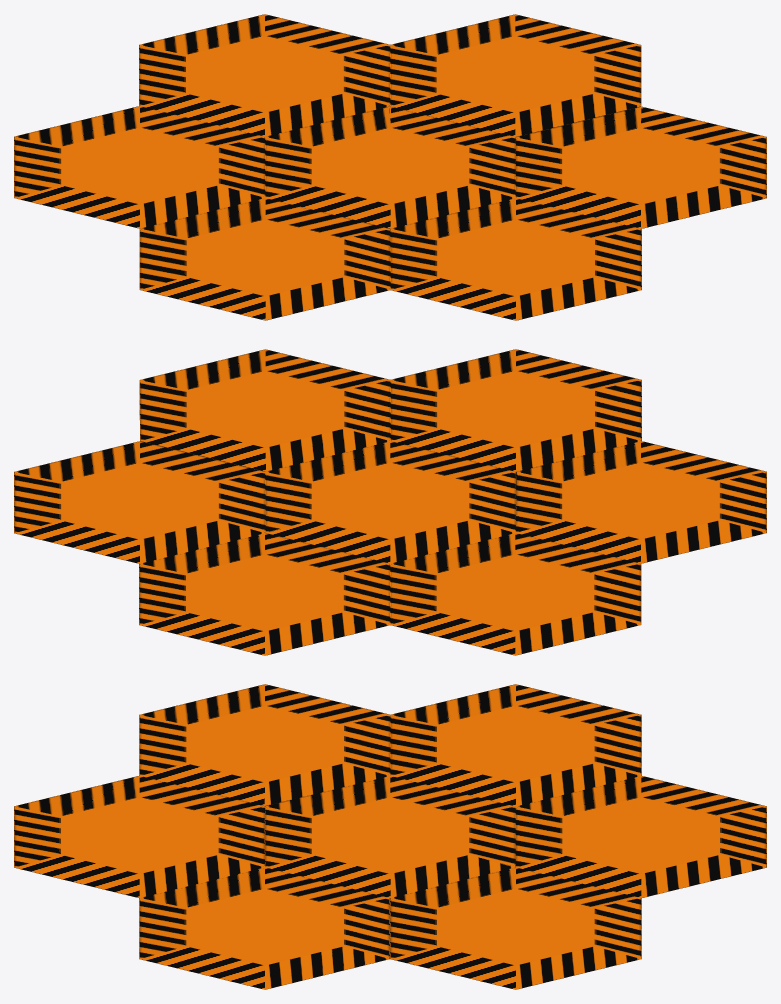
File: ConstructionZone.fbx
The picture shows the model from 3 angles, top to bottom: view 1: azimuth 30°, elevation 25°; view 2: azimuth 150°, elevation 25°; view 3: azimuth 270°, elevation 25°; orthographic projection.
Visible parts, largest first — view 1: Zone.Double, Zone.Sept.A, Zone.Quad.C, Zone.Tripple.A, Zone.Tripple.C, Zone.Tripple.B, Zone.Quad.D, Zone.Quad.A, Zone.Quad.B, Zone.Sext.A; view 2: Zone.Double, Zone.Sept.A, Zone.Tripple.A, Zone.Quad.C, Zone.Tripple.C, Zone.Tripple.B, Zone.Quad.D, Zone.Quad.B, Zone.Quad.A, Zone.Sext.A; view 3: Zone.Double, Zone.Sept.A, Zone.Quad.C, Zone.Tripple.A, Zone.Tripple.C, Zone.Tripple.B, Zone.Quad.D, Zone.Quad.A, Zone.Quad.B, Zone.Sext.A.
Boxes of the visible parts, x1,y1,x2,y2 form: Zone.Double: (265,14,641,228); Zone.Sept.A: (219,106,766,228); Zone.Quad.C: (391,198,641,320); Zone.Tripple.A: (139,14,439,136); Zone.Tripple.C: (139,219,390,320); Zone.Tripple.B: (14,106,218,228); Zone.Quad.D: (140,106,515,289); Zone.Quad.A: (265,14,390,104); Zone.Quad.B: (140,198,389,238); Zone.Sext.A: (142,147,265,227); Zone.Double: (14,441,516,563); Zone.Sept.A: (139,349,512,573); Zone.Tripple.A: (139,508,390,655); Zone.Quad.C: (390,349,641,456); Zone.Tripple.C: (517,441,766,563); Zone.Tripple.B: (390,554,641,655); Zone.Quad.D: (265,428,640,624); Zone.Quad.B: (515,472,640,563); Zone.Quad.A: (139,534,262,624); Zone.Sext.A: (437,533,638,573); Zone.Double: (265,776,641,989); Zone.Sept.A: (139,776,515,989); Zone.Quad.C: (14,775,264,898); Zone.Tripple.A: (465,775,766,879); Zone.Tripple.C: (139,684,389,805); Zone.Tripple.B: (390,684,641,782); Zone.Quad.D: (139,763,639,897); Zone.Quad.A: (517,855,766,898); Zone.Quad.B: (266,715,390,805); Zone.Sext.A: (390,715,513,782).
Size of the model in its own units: 25.4 by 0.0549 by 26.43.
